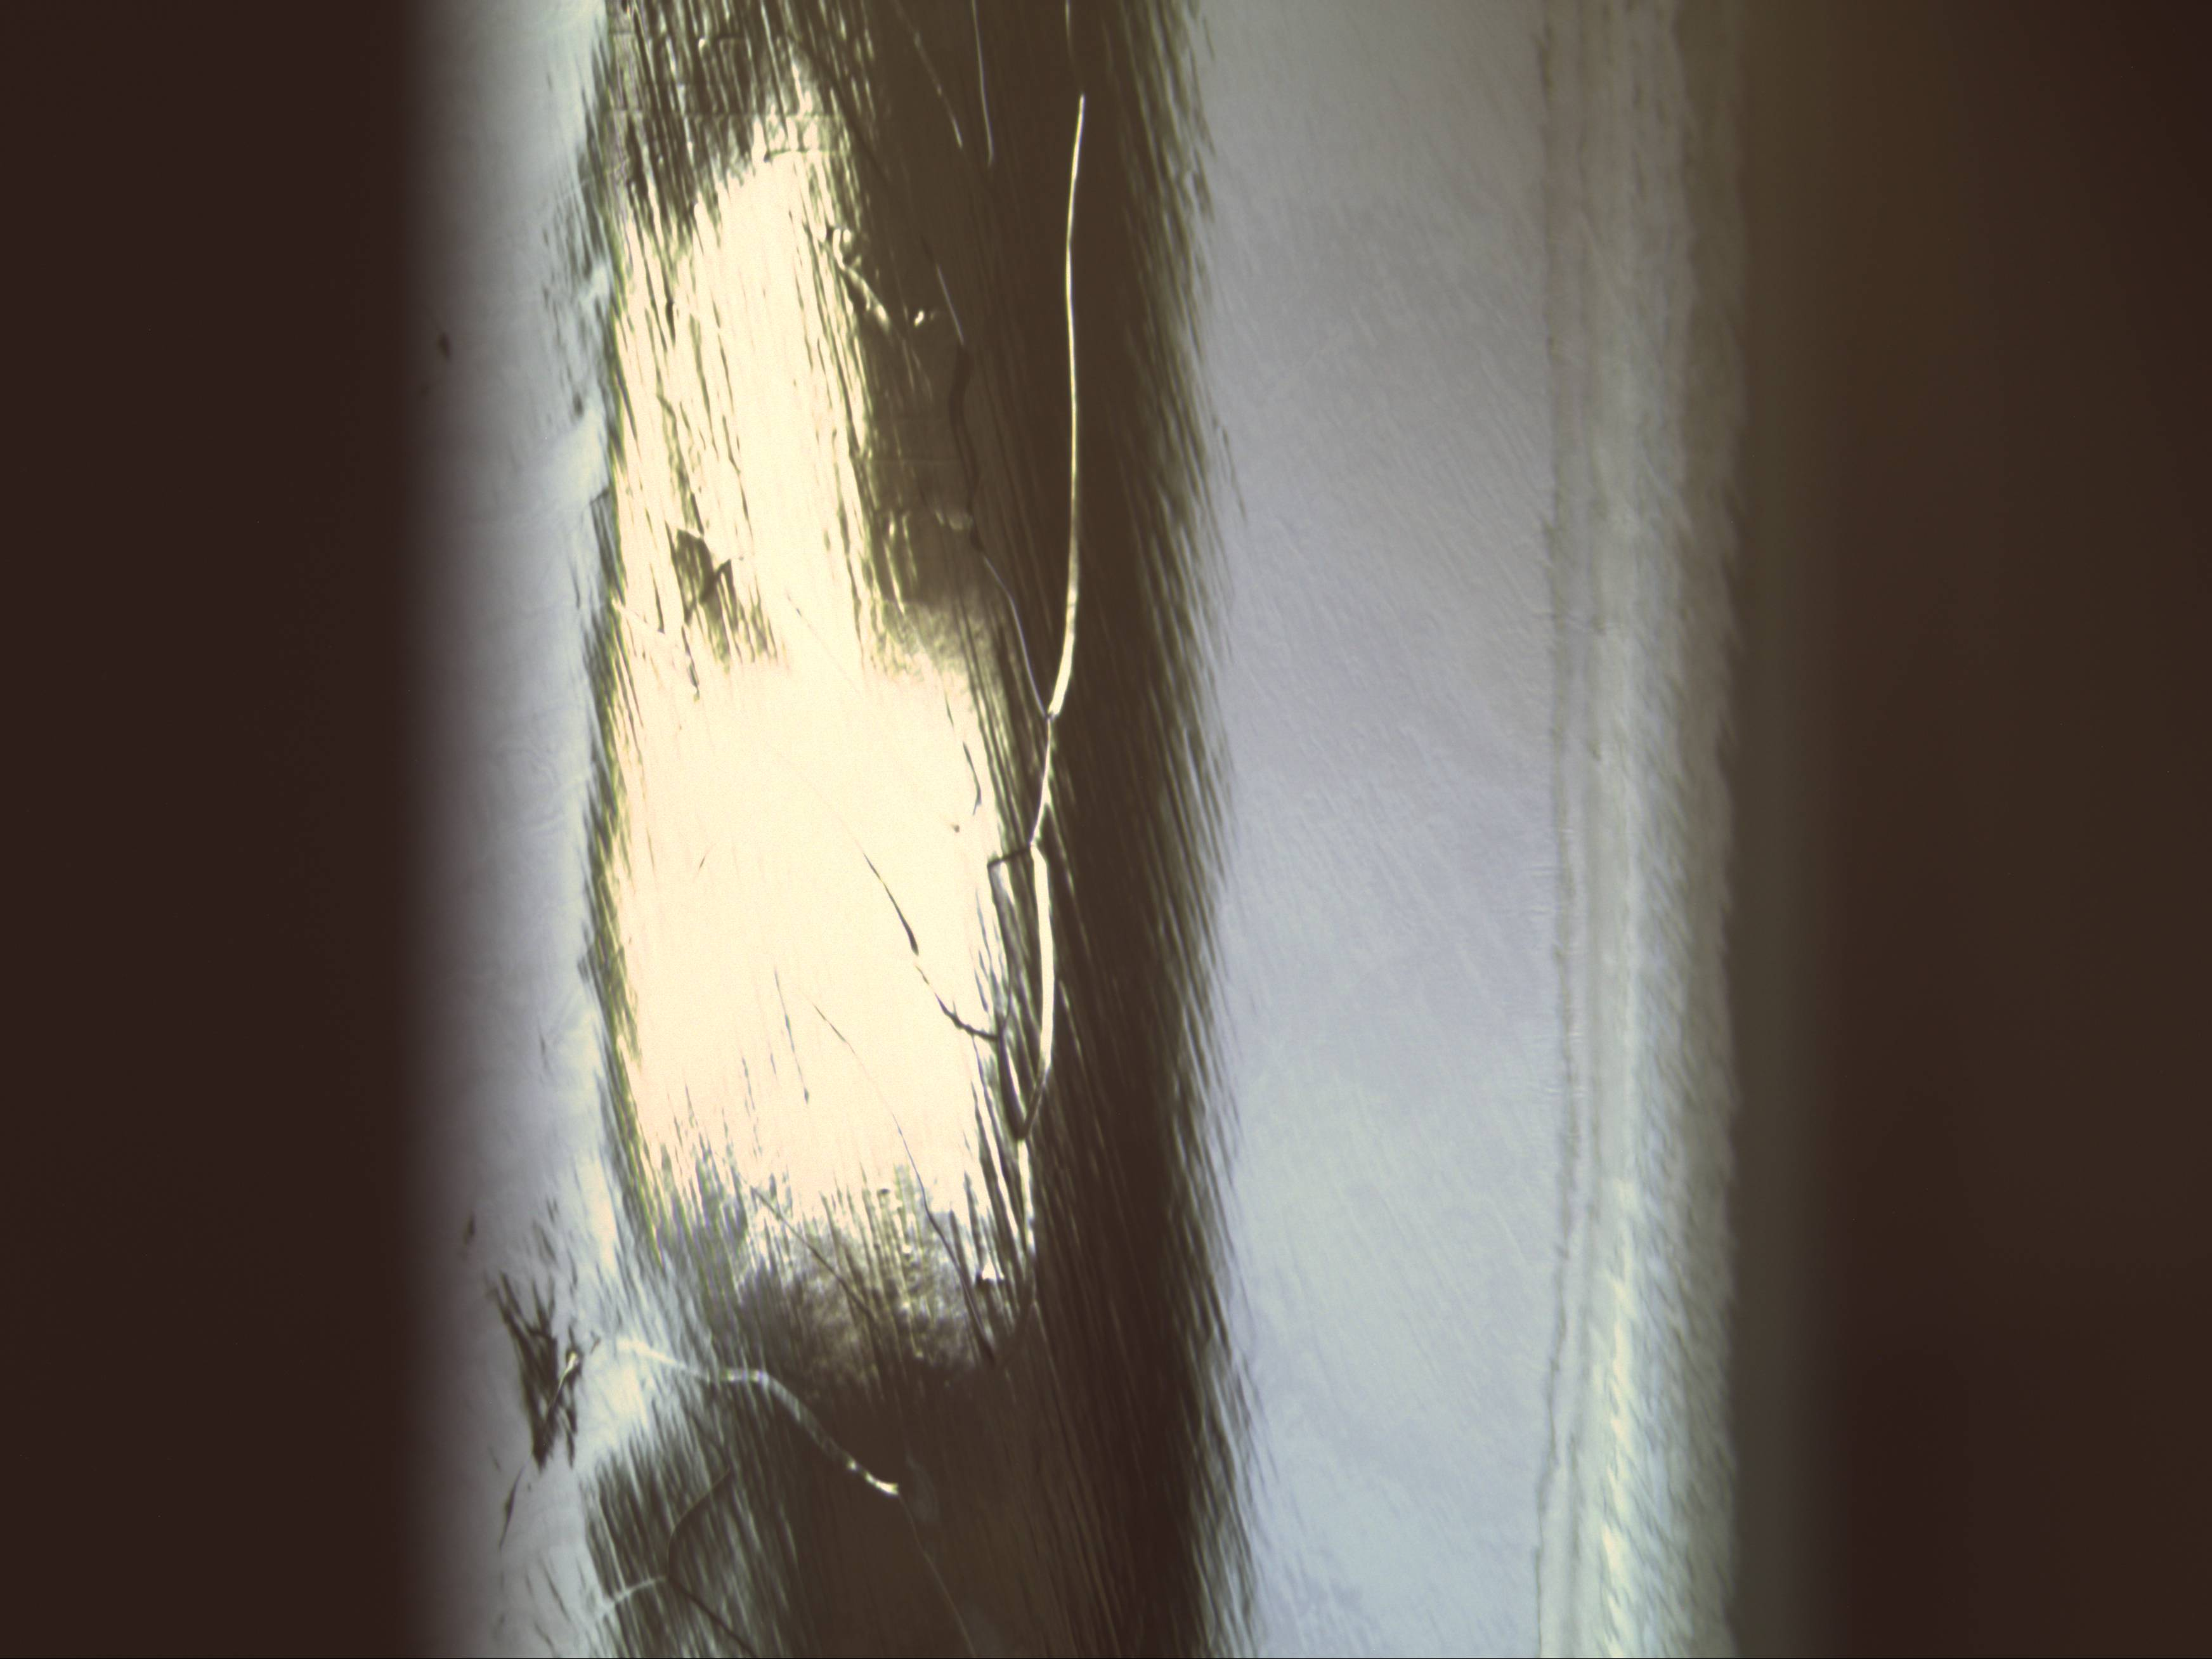defect: (902, 298, 930, 329)
